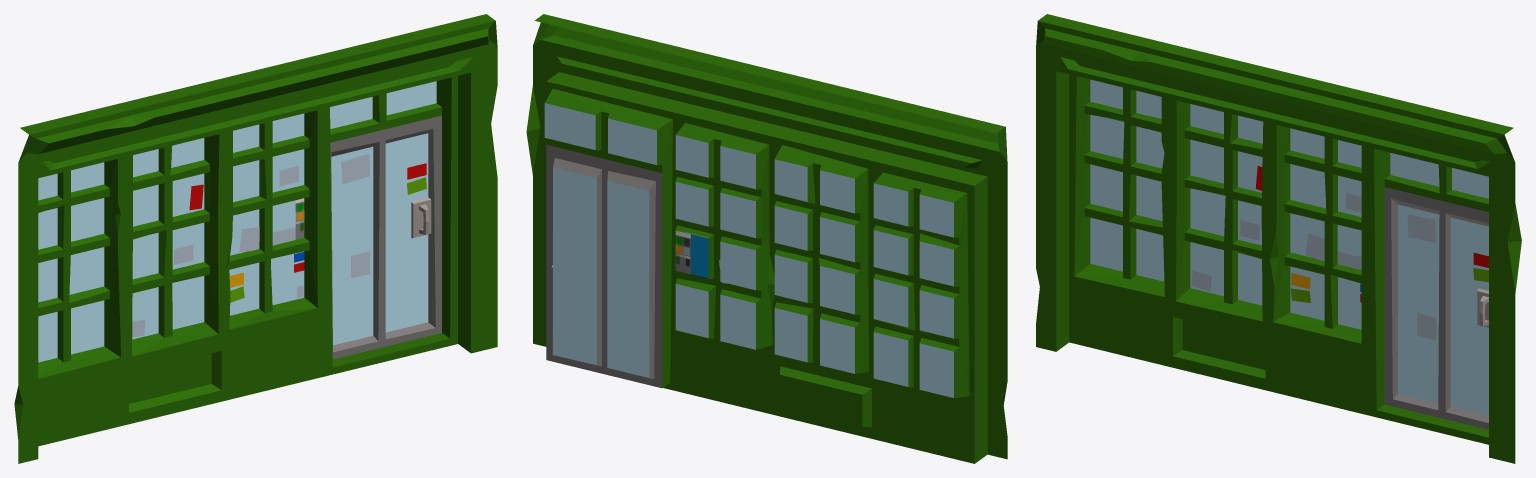
File: SM_Bld_Shop_02_Front.fbx
The picture shows the model from 3 angles, left to right: view 1: azimuth 30°, elevation 25°; view 2: azimuth 150°, elevation 25°; view 3: azimuth 330°, elevation 25°; orthographic projection.
Visible parts, largest first — view 1: SM_Bld_Shop_02; view 2: SM_Bld_Shop_02; view 3: SM_Bld_Shop_02.
Part boxes in pixels (bbox=[...]): SM_Bld_Shop_02: bbox=[14, 14, 497, 463]; SM_Bld_Shop_02: bbox=[526, 14, 1007, 463]; SM_Bld_Shop_02: bbox=[1036, 14, 1521, 463].
Size of the model in its own units: 5 by 3.3 by 0.6333.
